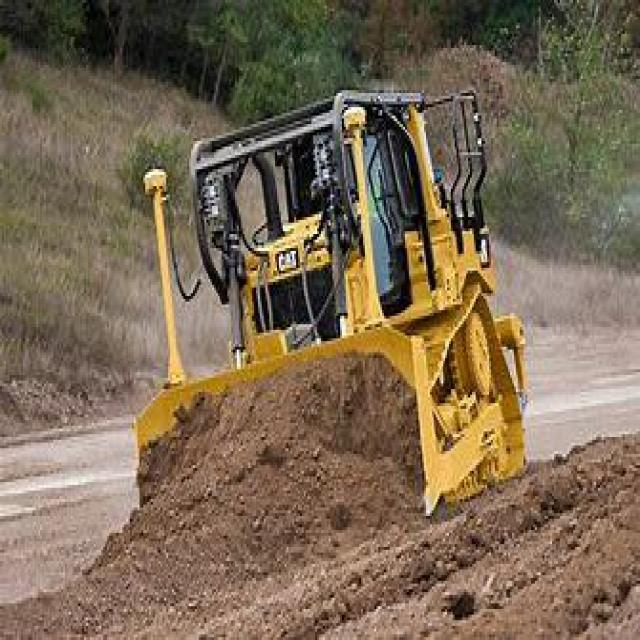Bulldozer: (111, 71, 546, 530)
